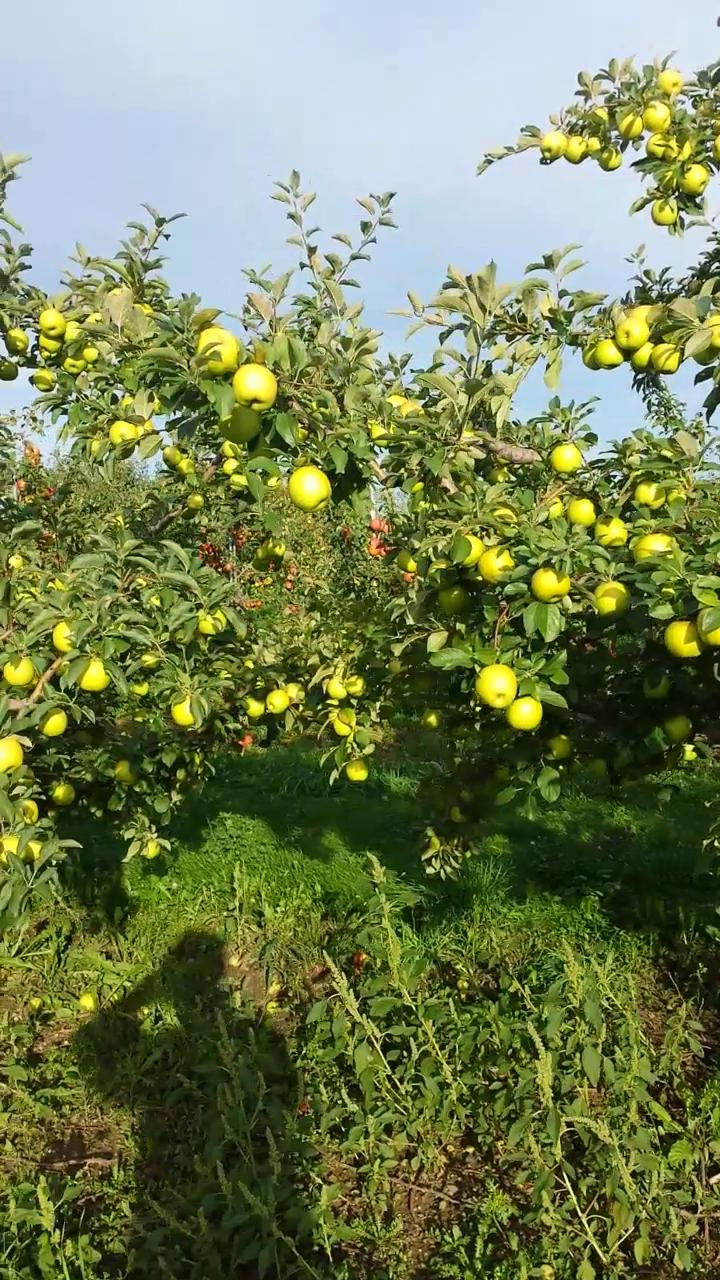Apple: (233, 363, 276, 411), (289, 467, 330, 513), (196, 329, 236, 375), (218, 403, 261, 444), (473, 665, 514, 707), (592, 580, 630, 617), (529, 569, 569, 603), (665, 622, 702, 658), (504, 694, 541, 730), (478, 548, 514, 583), (614, 317, 648, 351), (436, 581, 469, 615), (633, 533, 674, 560), (76, 660, 113, 689), (549, 443, 583, 474), (595, 517, 627, 547), (568, 492, 596, 525), (426, 560, 459, 588), (676, 166, 710, 193), (696, 607, 719, 644), (650, 345, 684, 370), (594, 339, 622, 369), (636, 481, 666, 509), (170, 692, 194, 727), (0, 735, 21, 775), (3, 655, 32, 683), (539, 130, 564, 161), (458, 535, 483, 566), (642, 103, 670, 130), (108, 419, 136, 446), (663, 136, 692, 162), (51, 623, 75, 653), (195, 609, 226, 632), (657, 69, 685, 94), (647, 131, 672, 158), (564, 135, 589, 162), (57, 351, 86, 373), (39, 709, 64, 734), (618, 113, 642, 139), (631, 343, 655, 369), (41, 311, 64, 338), (645, 673, 668, 700), (597, 144, 621, 169), (0, 834, 19, 865), (650, 200, 675, 223), (666, 716, 690, 739), (549, 734, 571, 759), (264, 690, 290, 711), (62, 317, 82, 344), (51, 786, 76, 806), (33, 369, 53, 393), (9, 330, 28, 355), (370, 425, 389, 450), (705, 313, 719, 346), (346, 760, 367, 782), (395, 550, 416, 571), (345, 675, 367, 695), (327, 676, 347, 698), (116, 762, 136, 784), (136, 418, 156, 439), (40, 333, 62, 352), (21, 800, 37, 825), (286, 683, 306, 702), (491, 508, 516, 523), (582, 346, 598, 369), (331, 715, 350, 734), (489, 469, 510, 486), (245, 696, 262, 717), (679, 742, 700, 759), (162, 449, 182, 466), (399, 402, 423, 416), (546, 498, 562, 519), (629, 306, 651, 321), (423, 709, 441, 727), (587, 135, 601, 158), (228, 475, 248, 491), (667, 488, 688, 503), (8, 554, 29, 569), (90, 436, 109, 452), (451, 808, 470, 824), (26, 838, 41, 858), (175, 460, 195, 474), (82, 345, 99, 361), (409, 479, 426, 495), (188, 494, 205, 510), (268, 541, 285, 557), (134, 680, 150, 697), (143, 651, 159, 667), (382, 397, 410, 406), (146, 841, 160, 859), (223, 442, 242, 455), (594, 105, 609, 121), (1, 364, 16, 380), (132, 302, 152, 313), (119, 396, 132, 412), (224, 459, 238, 473), (267, 475, 282, 487), (86, 312, 102, 323), (257, 549, 268, 562), (53, 576, 64, 589), (712, 138, 718, 157)
